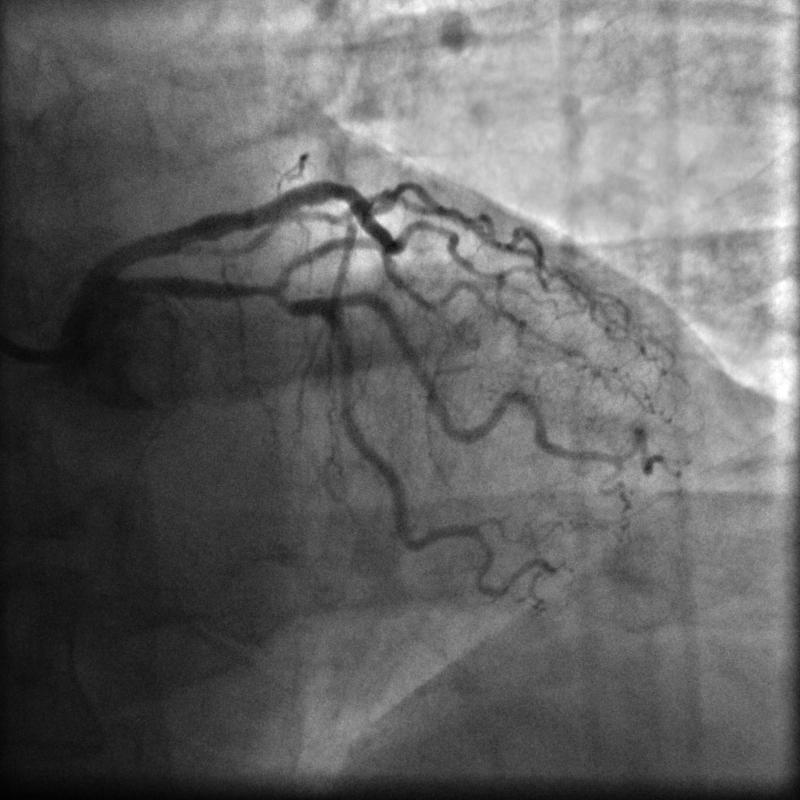Stenosis: (242, 278, 290, 304)
